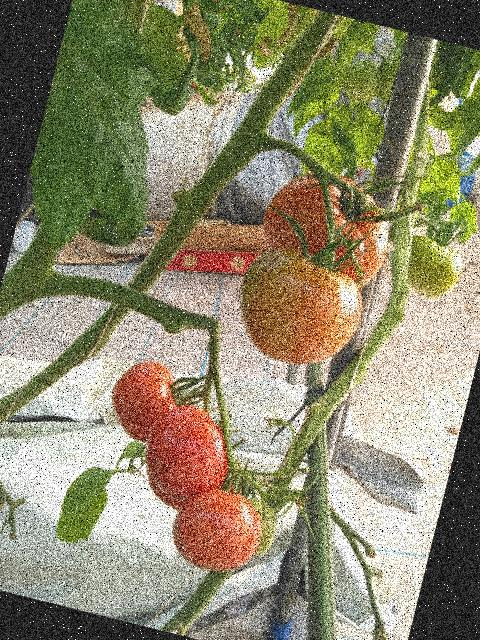b_fully_ripened: (134, 396, 241, 510), (102, 353, 189, 448)
b_green: (398, 232, 469, 304), (233, 496, 283, 561), (338, 55, 386, 109), (373, 41, 404, 106)
b_half_ripened: (224, 238, 372, 378), (253, 159, 402, 293), (164, 479, 271, 581)
